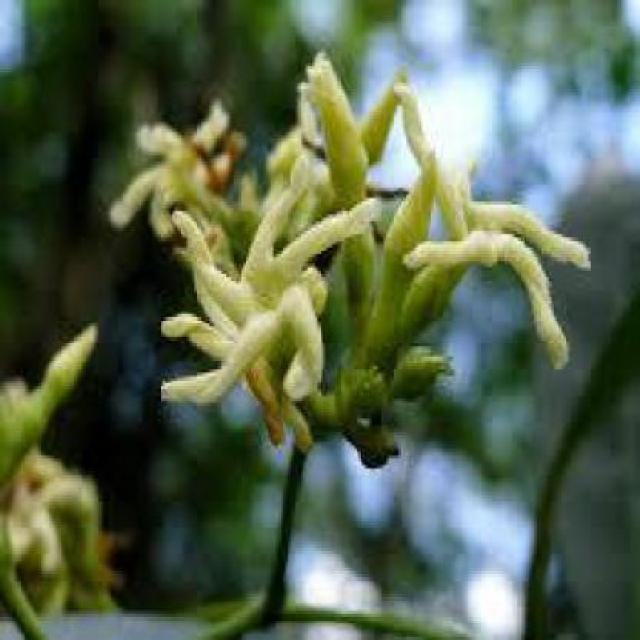flower: (386, 75, 603, 383), (148, 181, 366, 422)
